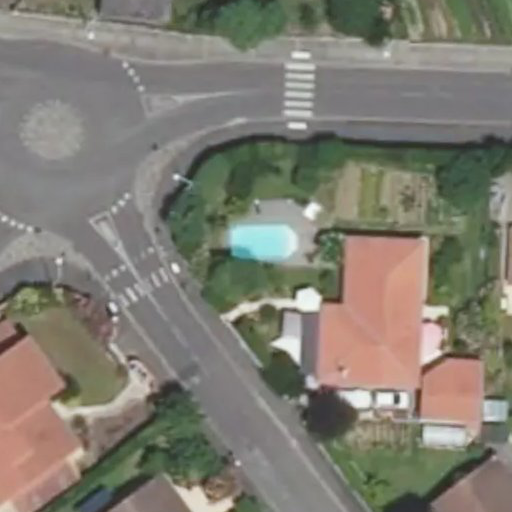pool: (230, 225, 282, 258)
